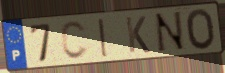7: (29, 22, 54, 64)
C: (59, 20, 90, 61)
I: (97, 17, 111, 59)
K: (123, 15, 151, 55)
N: (153, 10, 188, 55)
O: (185, 7, 217, 52)
